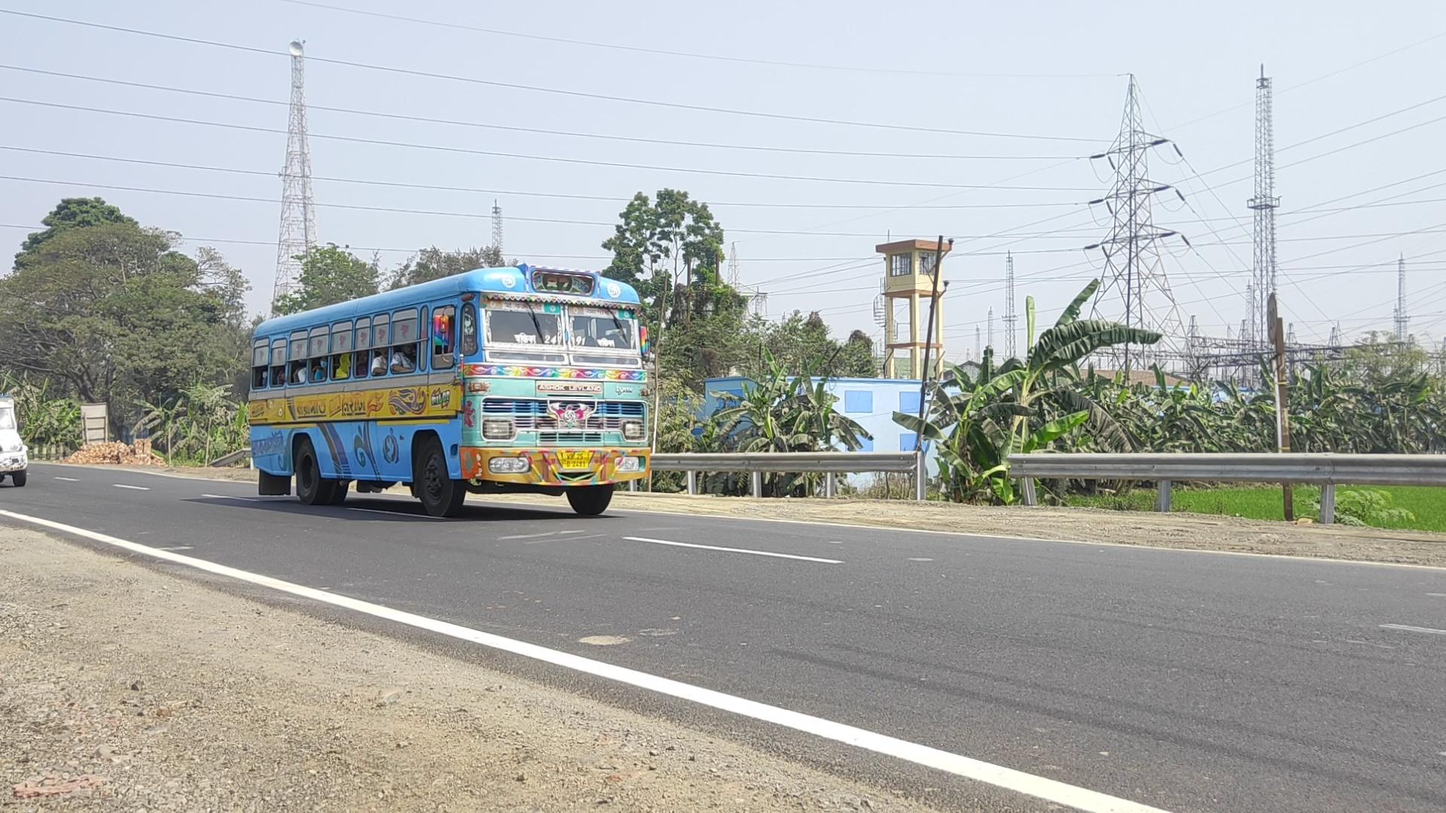Bus: (247, 263, 651, 518)
